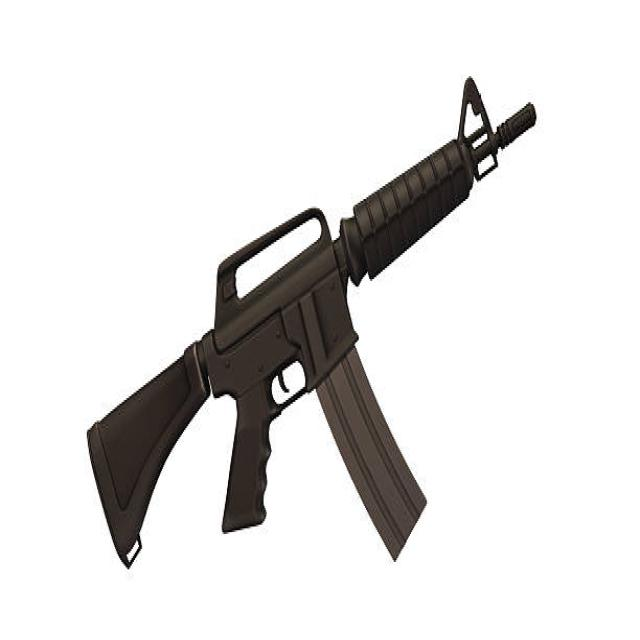rifle: (87, 74, 540, 582)
